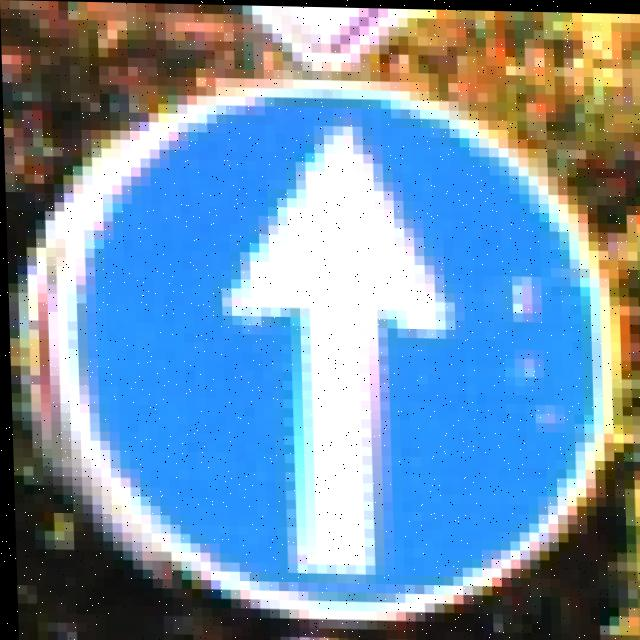compulsory_ahead: (105, 64, 580, 581)
